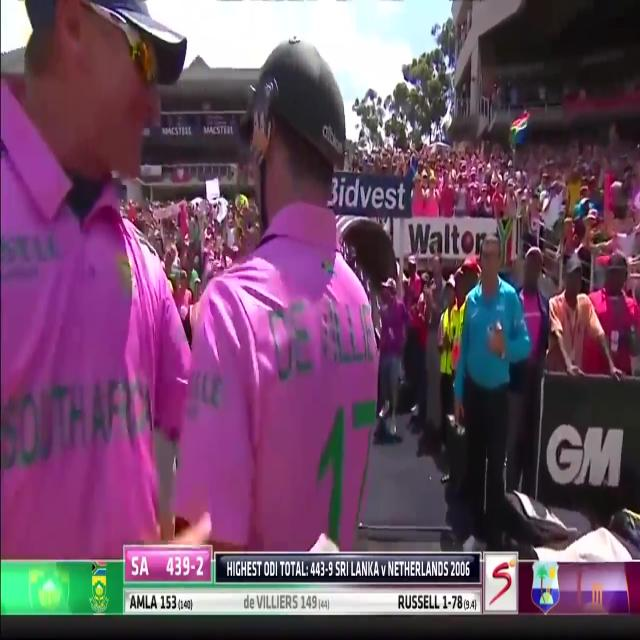Ball: (142, 13, 413, 547)
